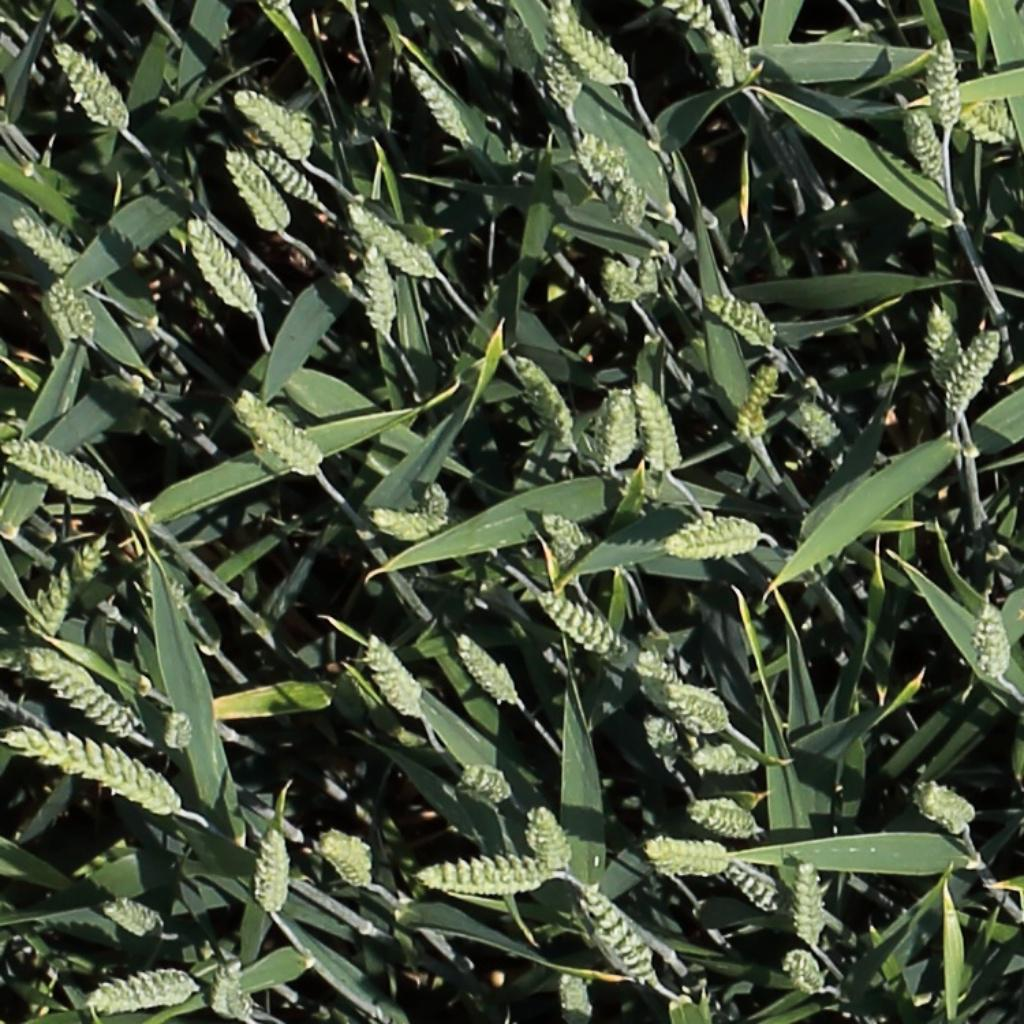0-0: (5, 726, 182, 812), (32, 655, 137, 738), (581, 880, 659, 985), (184, 212, 259, 314), (51, 38, 131, 131), (408, 850, 555, 900), (346, 199, 436, 277), (512, 348, 582, 447), (401, 54, 476, 146), (236, 391, 320, 471), (540, 592, 632, 664), (85, 966, 206, 1016), (0, 439, 107, 495), (222, 144, 290, 232), (552, 12, 632, 86), (234, 86, 314, 158), (361, 632, 424, 722), (943, 323, 1004, 415), (454, 630, 522, 711), (911, 774, 986, 841), (666, 512, 763, 562), (634, 378, 682, 476), (638, 835, 734, 883), (737, 354, 785, 446), (582, 135, 645, 204), (253, 144, 324, 204), (705, 292, 778, 345), (797, 394, 849, 468), (46, 274, 98, 346), (906, 101, 950, 184), (12, 214, 76, 271), (723, 861, 786, 918), (31, 563, 73, 648), (529, 801, 573, 880), (364, 237, 397, 342), (543, 28, 582, 114), (319, 835, 375, 892), (928, 297, 962, 390), (712, 25, 757, 92), (604, 383, 636, 475), (212, 954, 252, 1024), (933, 34, 961, 133), (644, 709, 682, 779), (539, 507, 591, 558), (260, 823, 286, 924), (669, 688, 733, 729), (954, 98, 1015, 141), (978, 596, 1007, 686), (692, 802, 763, 838), (783, 946, 831, 999), (800, 853, 824, 953), (602, 253, 645, 303), (557, 966, 593, 1022), (460, 765, 513, 802), (103, 903, 159, 936), (371, 510, 445, 533), (669, 1, 718, 35), (637, 244, 664, 303), (420, 476, 450, 529), (693, 752, 761, 775), (165, 704, 192, 757)
